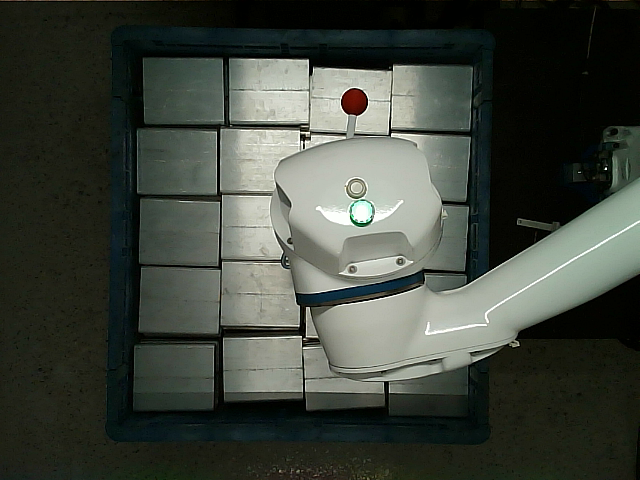green_light: (349, 199, 374, 226)
